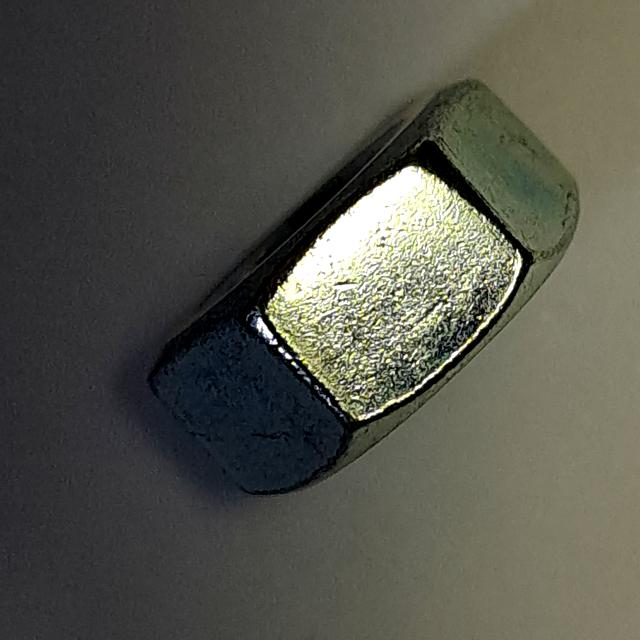Side_Excellent: (137, 70, 599, 508)
